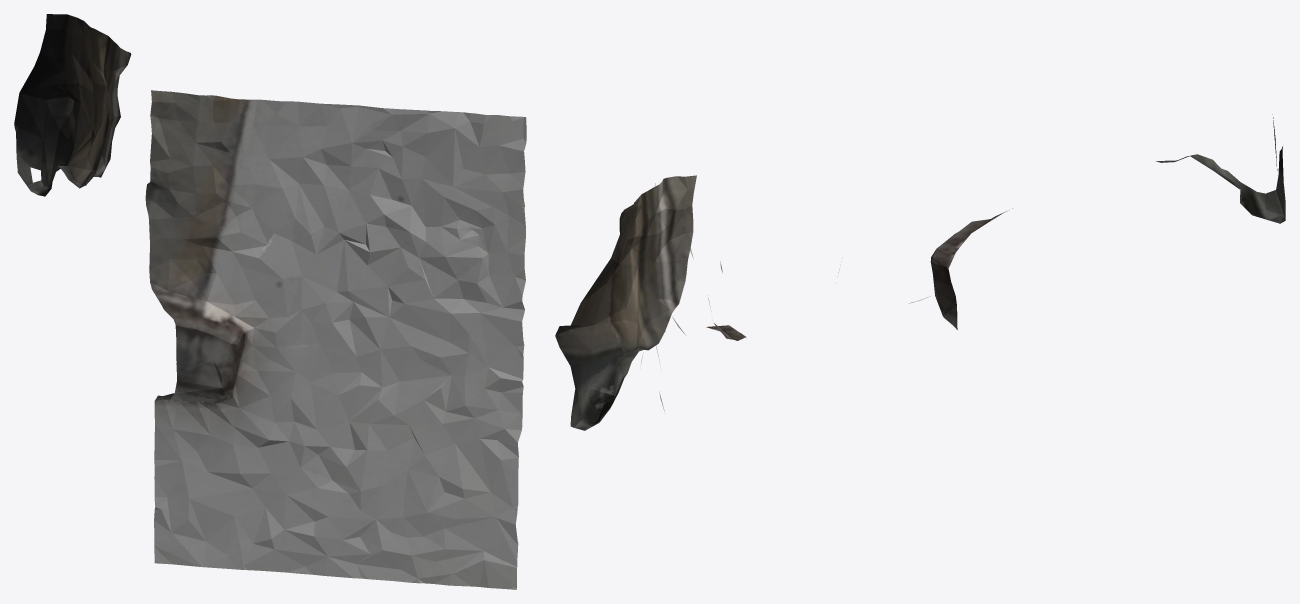
The picture shows the model from 3 angles, left to right: view 1: azimuth 30°, elevation 25°; view 2: azimuth 150°, elevation 25°; view 3: azimuth 270°, elevation 25°; orthographic projection. The views are drawn at different scales.
Size of the model in its own units: 0.4739 by 0.8374 by 0.8373.
Materials: 2 (2 with a texture image).
